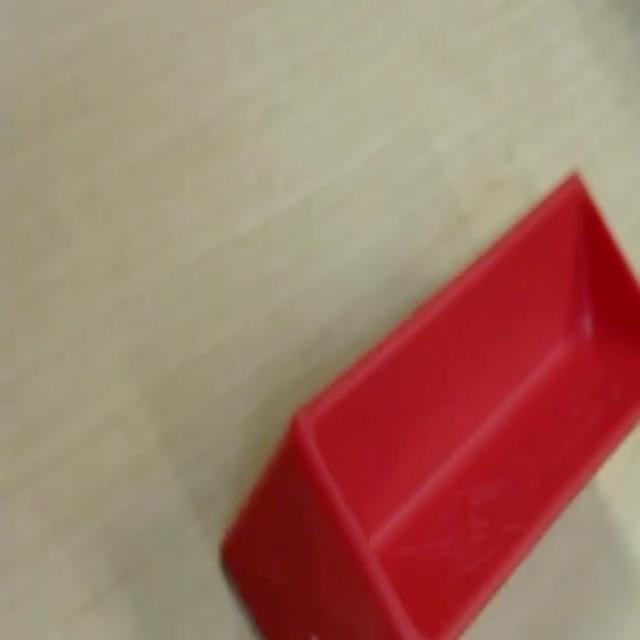red_block: (217, 167, 638, 637)
